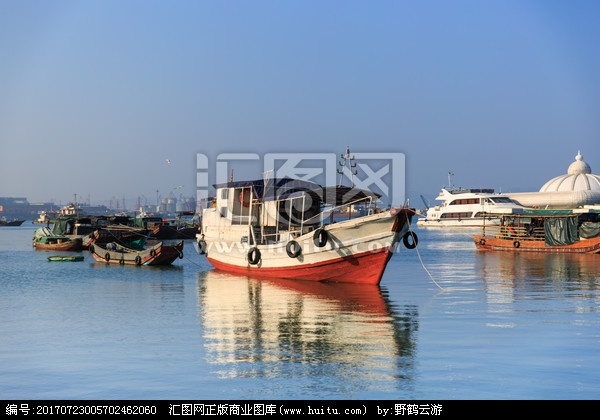otherboat: (191, 152, 424, 288), (469, 201, 600, 260), (80, 219, 187, 271), (29, 220, 87, 253)
yacht: (413, 187, 539, 231)
